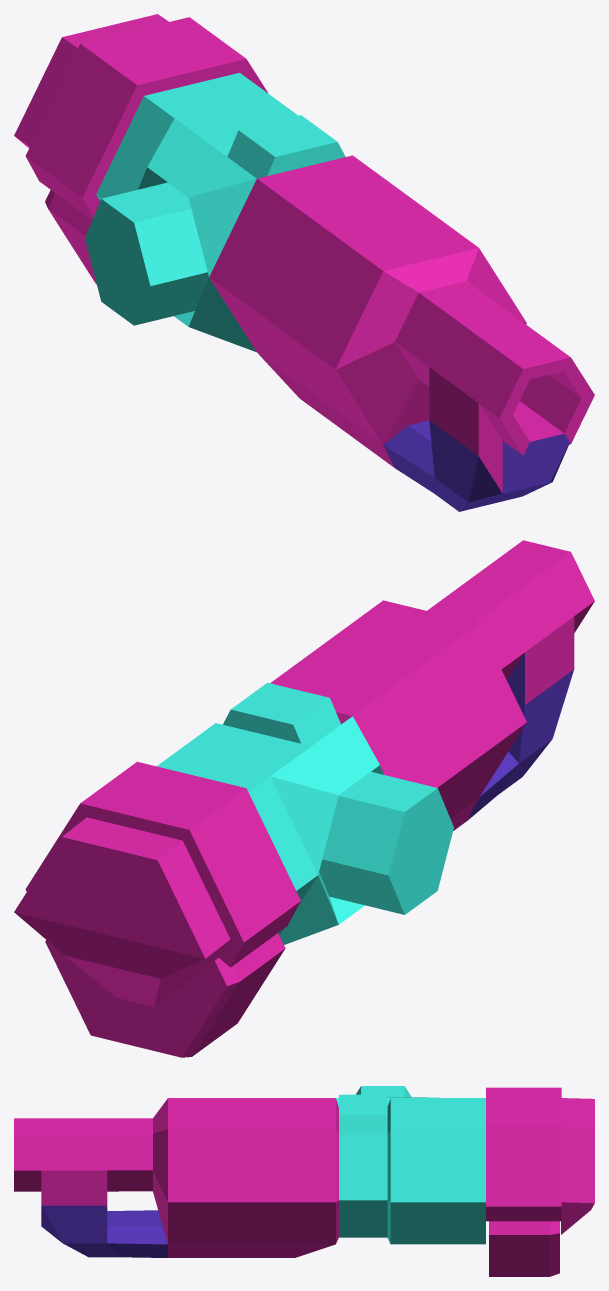
Rendered from MissileLauncher.fbx.
3 renders of one model, top to bottom at view 1: azimuth 30°, elevation 25°; view 2: azimuth 150°, elevation 25°; view 3: azimuth 270°, elevation 25°, orthographic. The views are drawn at different scales.
Visible parts, largest first — view 1: MissileLauncher; view 2: MissileLauncher; view 3: MissileLauncher.
Boxes of the visible parts, bbox=[...] form: MissileLauncher: bbox=[14, 14, 594, 511]; MissileLauncher: bbox=[14, 540, 594, 1057]; MissileLauncher: bbox=[14, 1086, 594, 1276].
Size of the model in its own units: 46.3 by 40.3 by 134.
